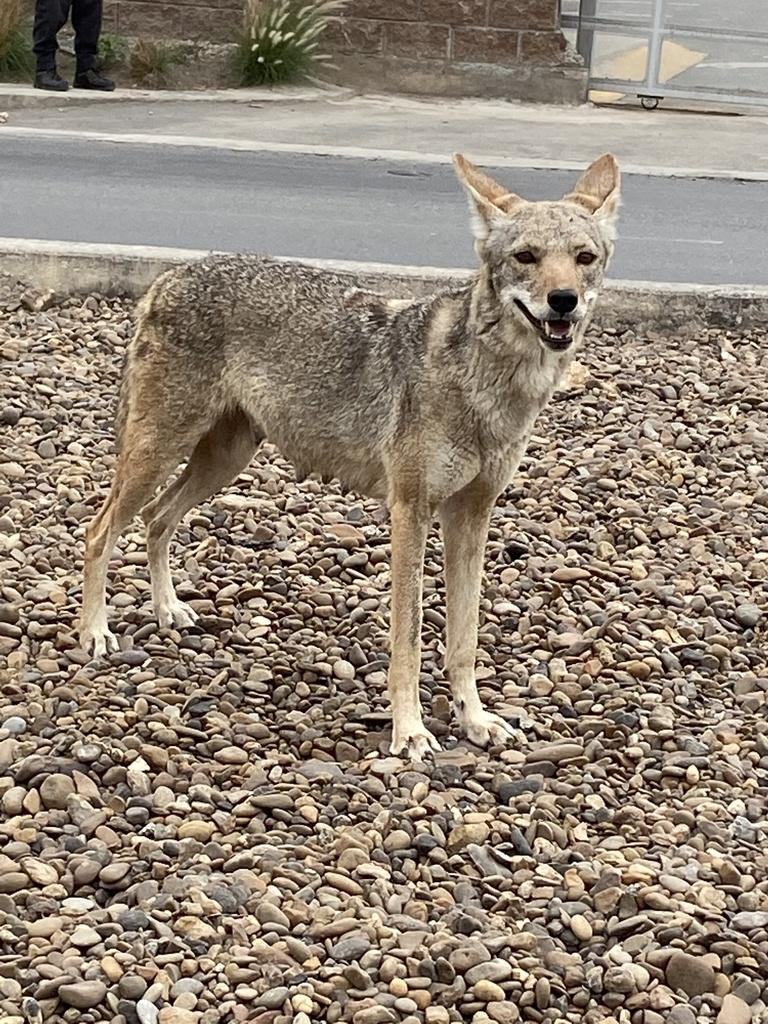Coyote: (71, 147, 631, 760)
